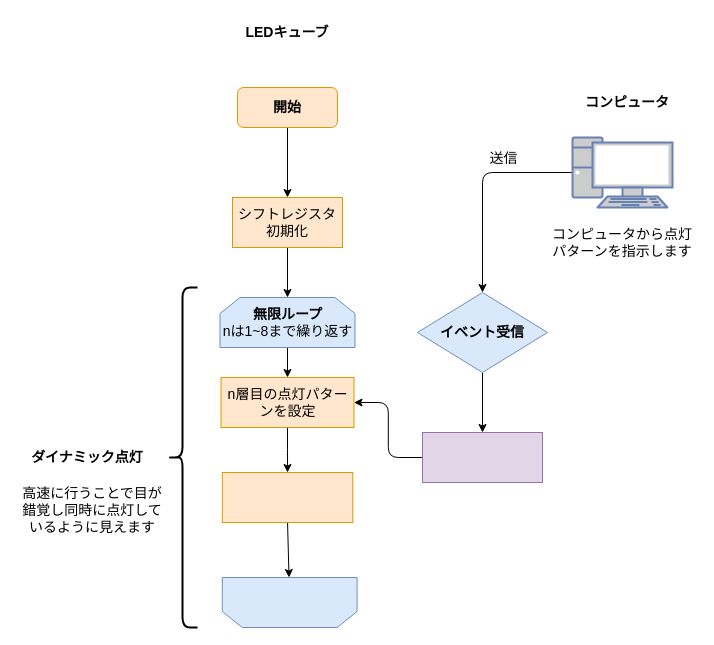
Image size: 714x645. Some labels were removed from this diagram. Here are the shapes that lost their labels. From the top down, the centre of each, then its label:
At point 482,457: "点灯パターン 保存".
At point 287,497: "n層目を点灯".
